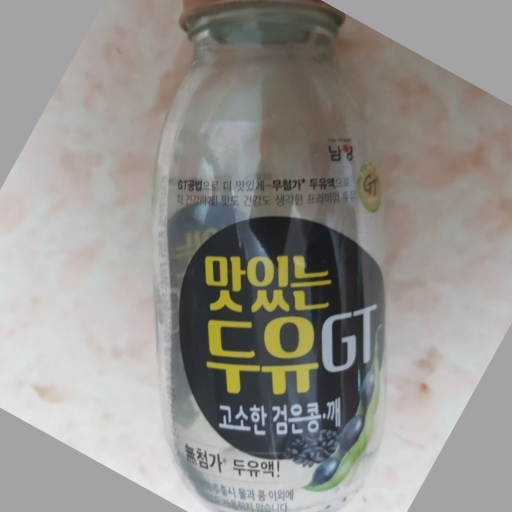Glass_4: (152, 1, 388, 509)
